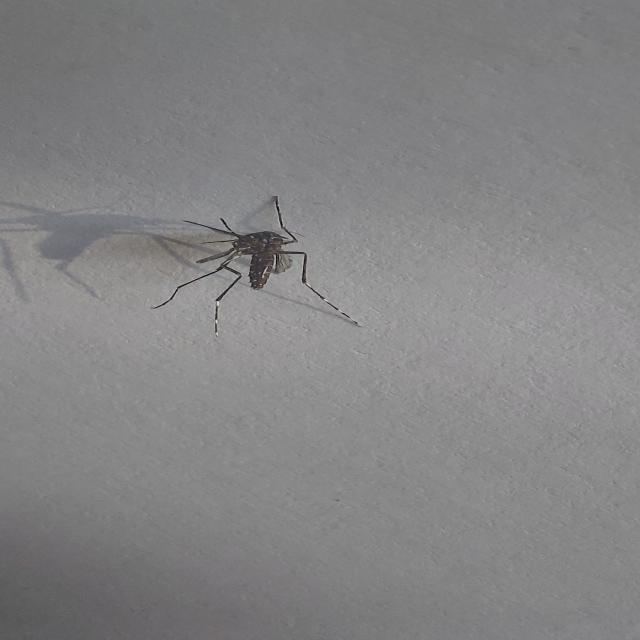albopictus: (139, 195, 370, 340)
